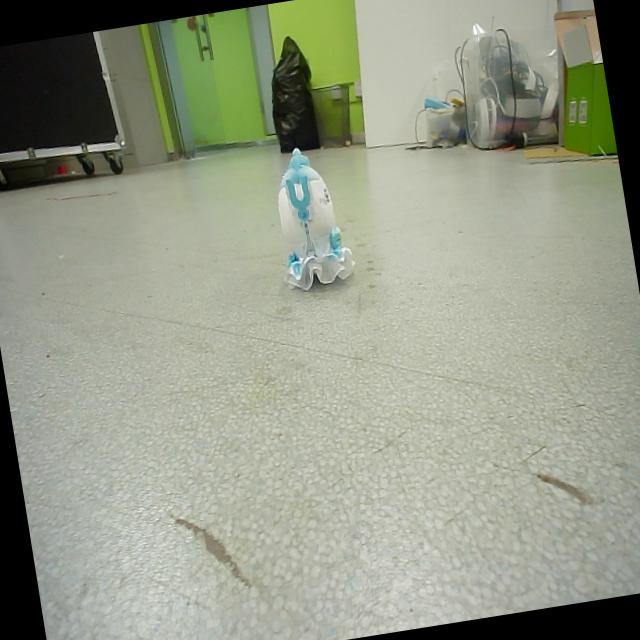xiaoba: (269, 140, 356, 298)
